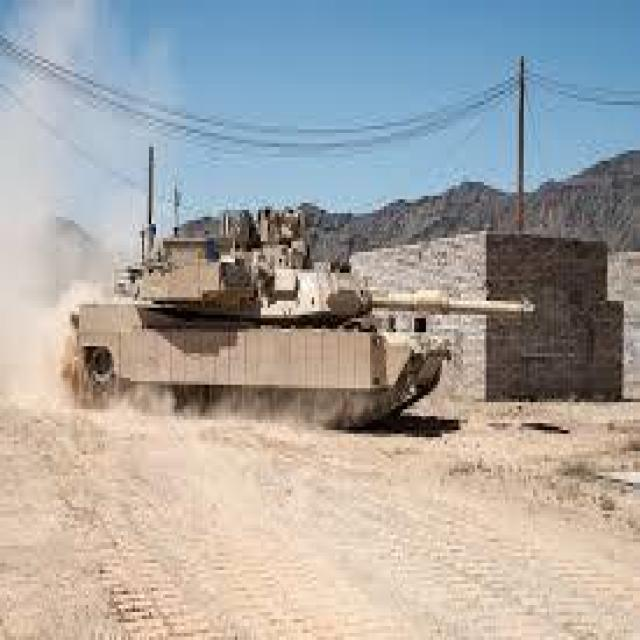Tanks: (67, 203, 468, 434)
